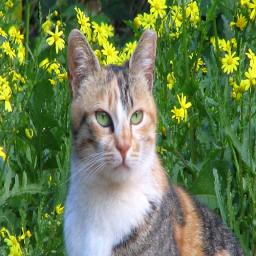catnose: (116, 141, 131, 160)
